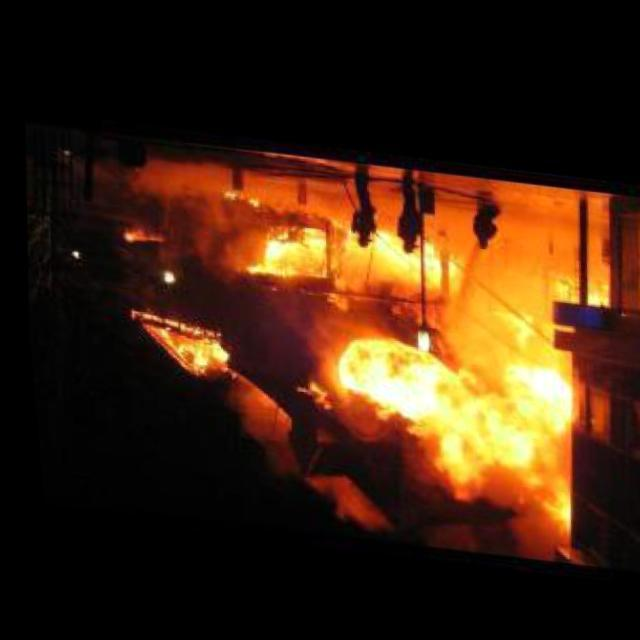fire: (134, 193, 598, 519)
